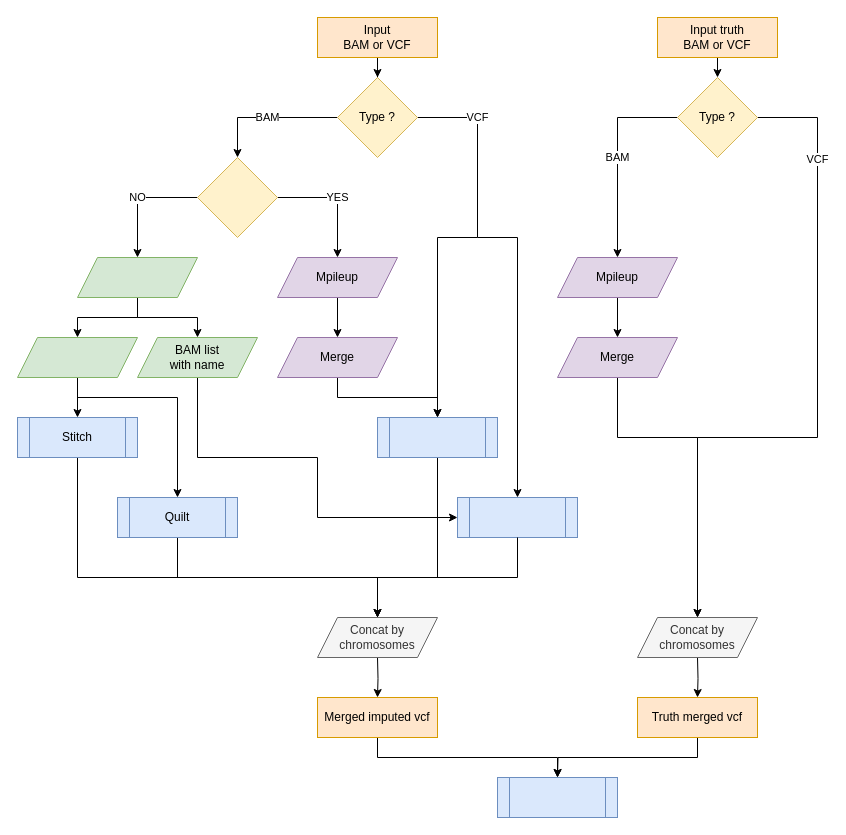
Some shapes in this 846 by 835 pixel diagram are drawn without their labels. Here are the shapes that lost their labels. From the top down, the box of each, then its label:
(196, 156, 278, 238): Glimpse1 ?
(76, 256, 198, 298): group in batch
(16, 336, 138, 378): BAM list without name
(376, 416, 498, 458): Glimpse1
(456, 496, 578, 538): Glimpse2
(496, 776, 618, 818): Compare
